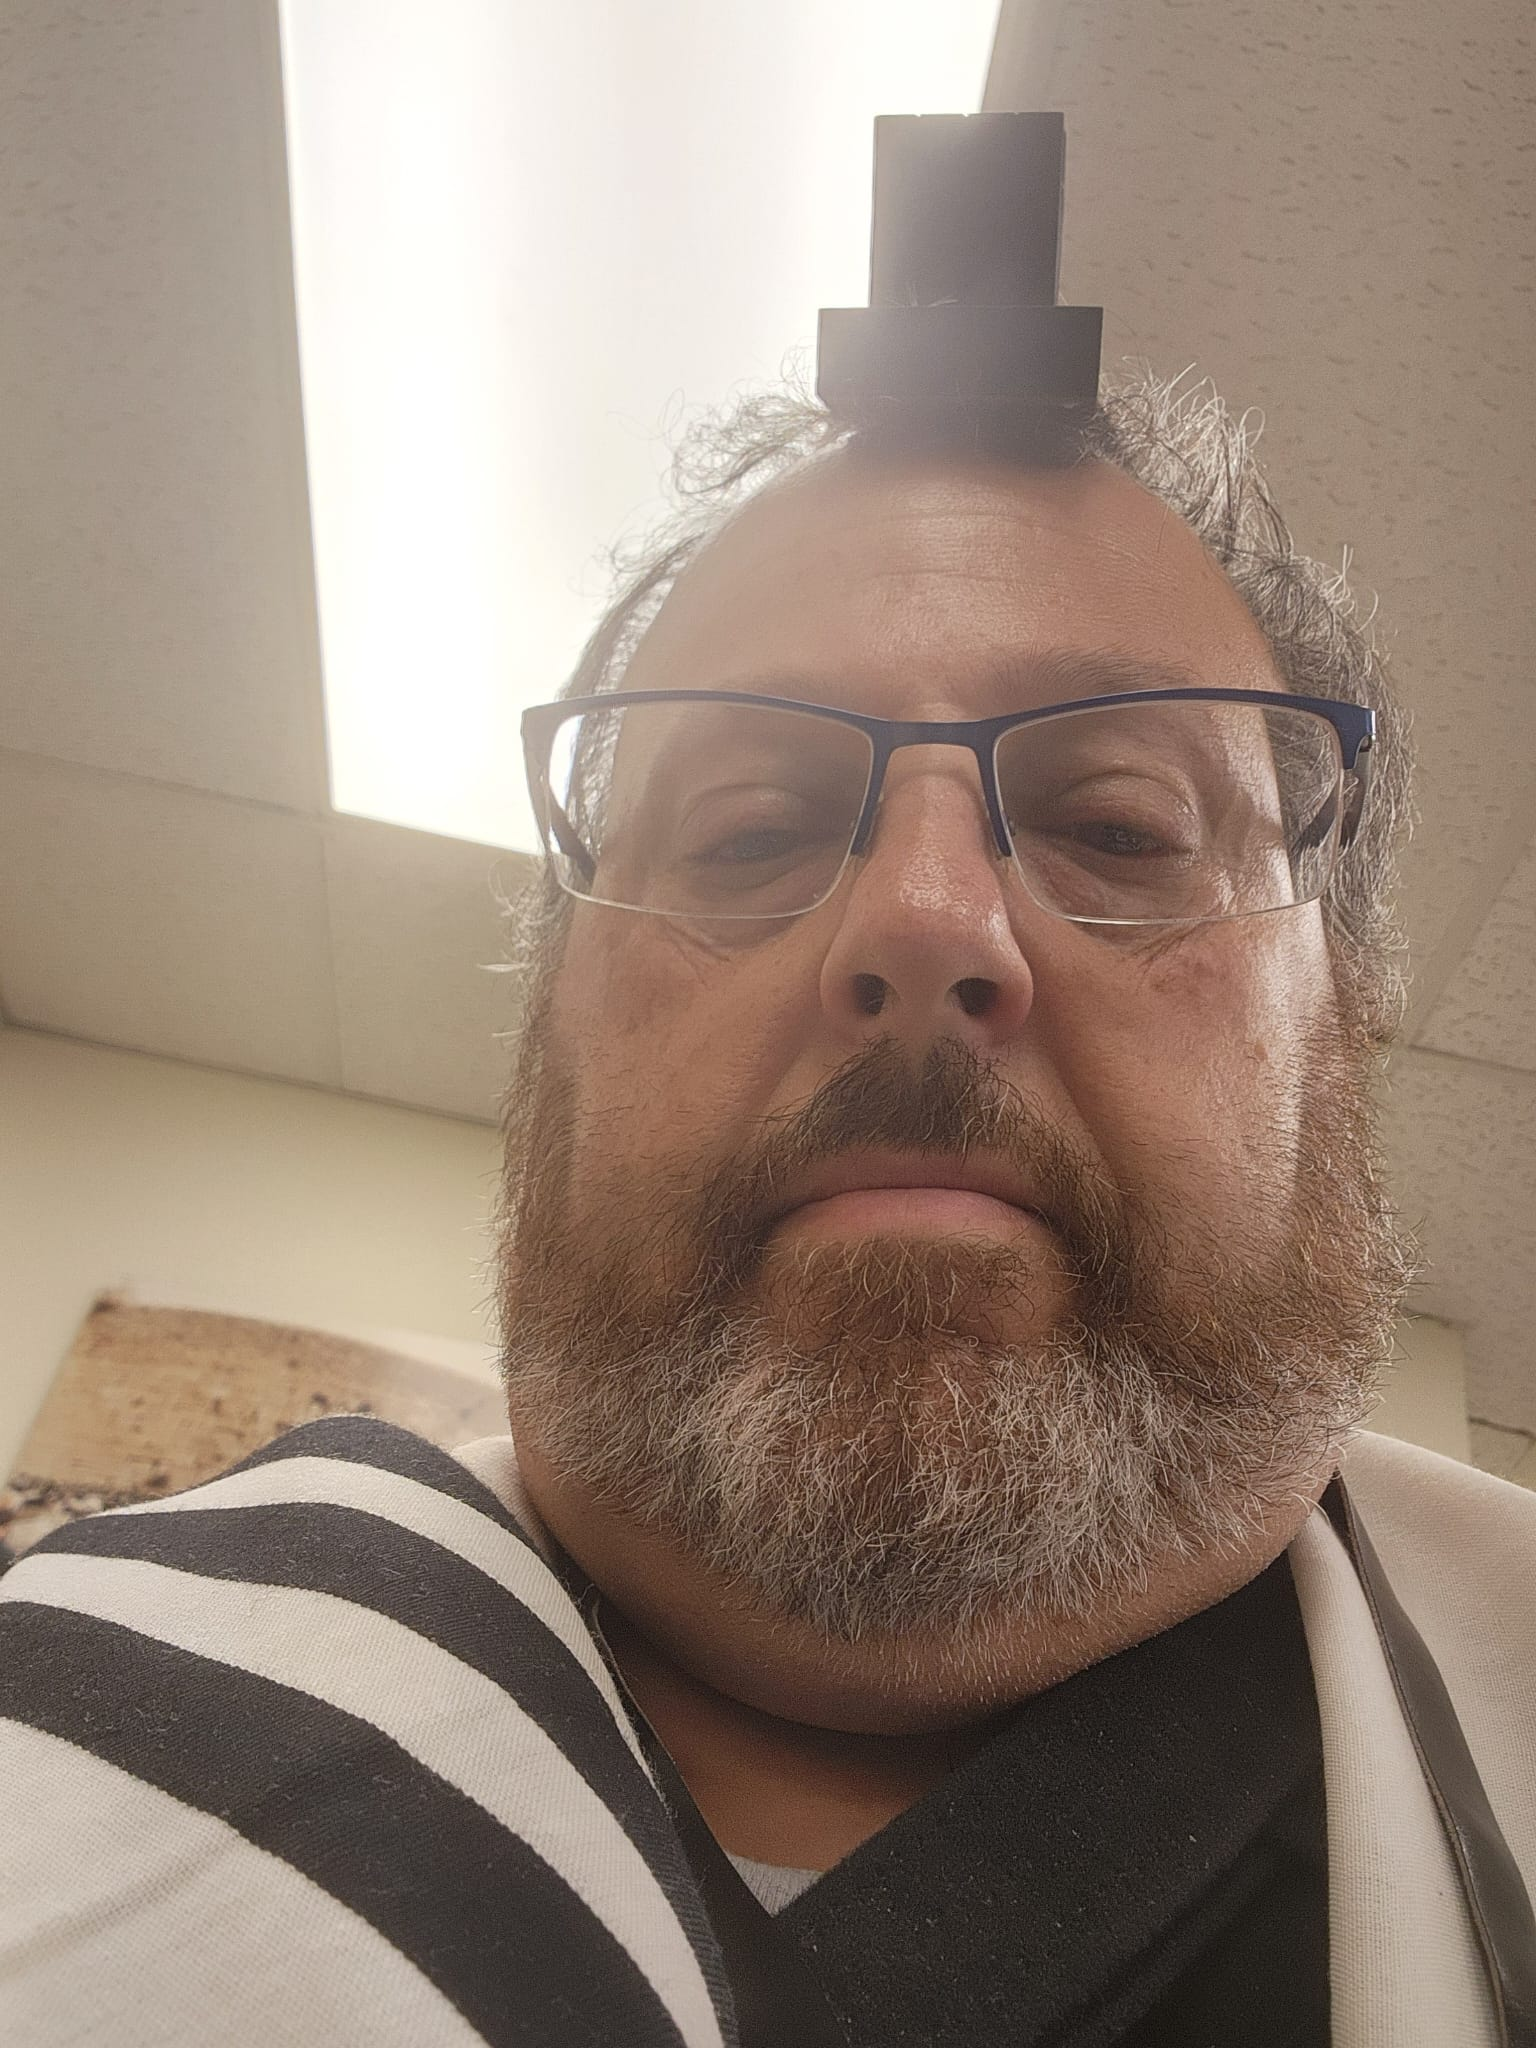tefillin: (820, 111, 1107, 424)
